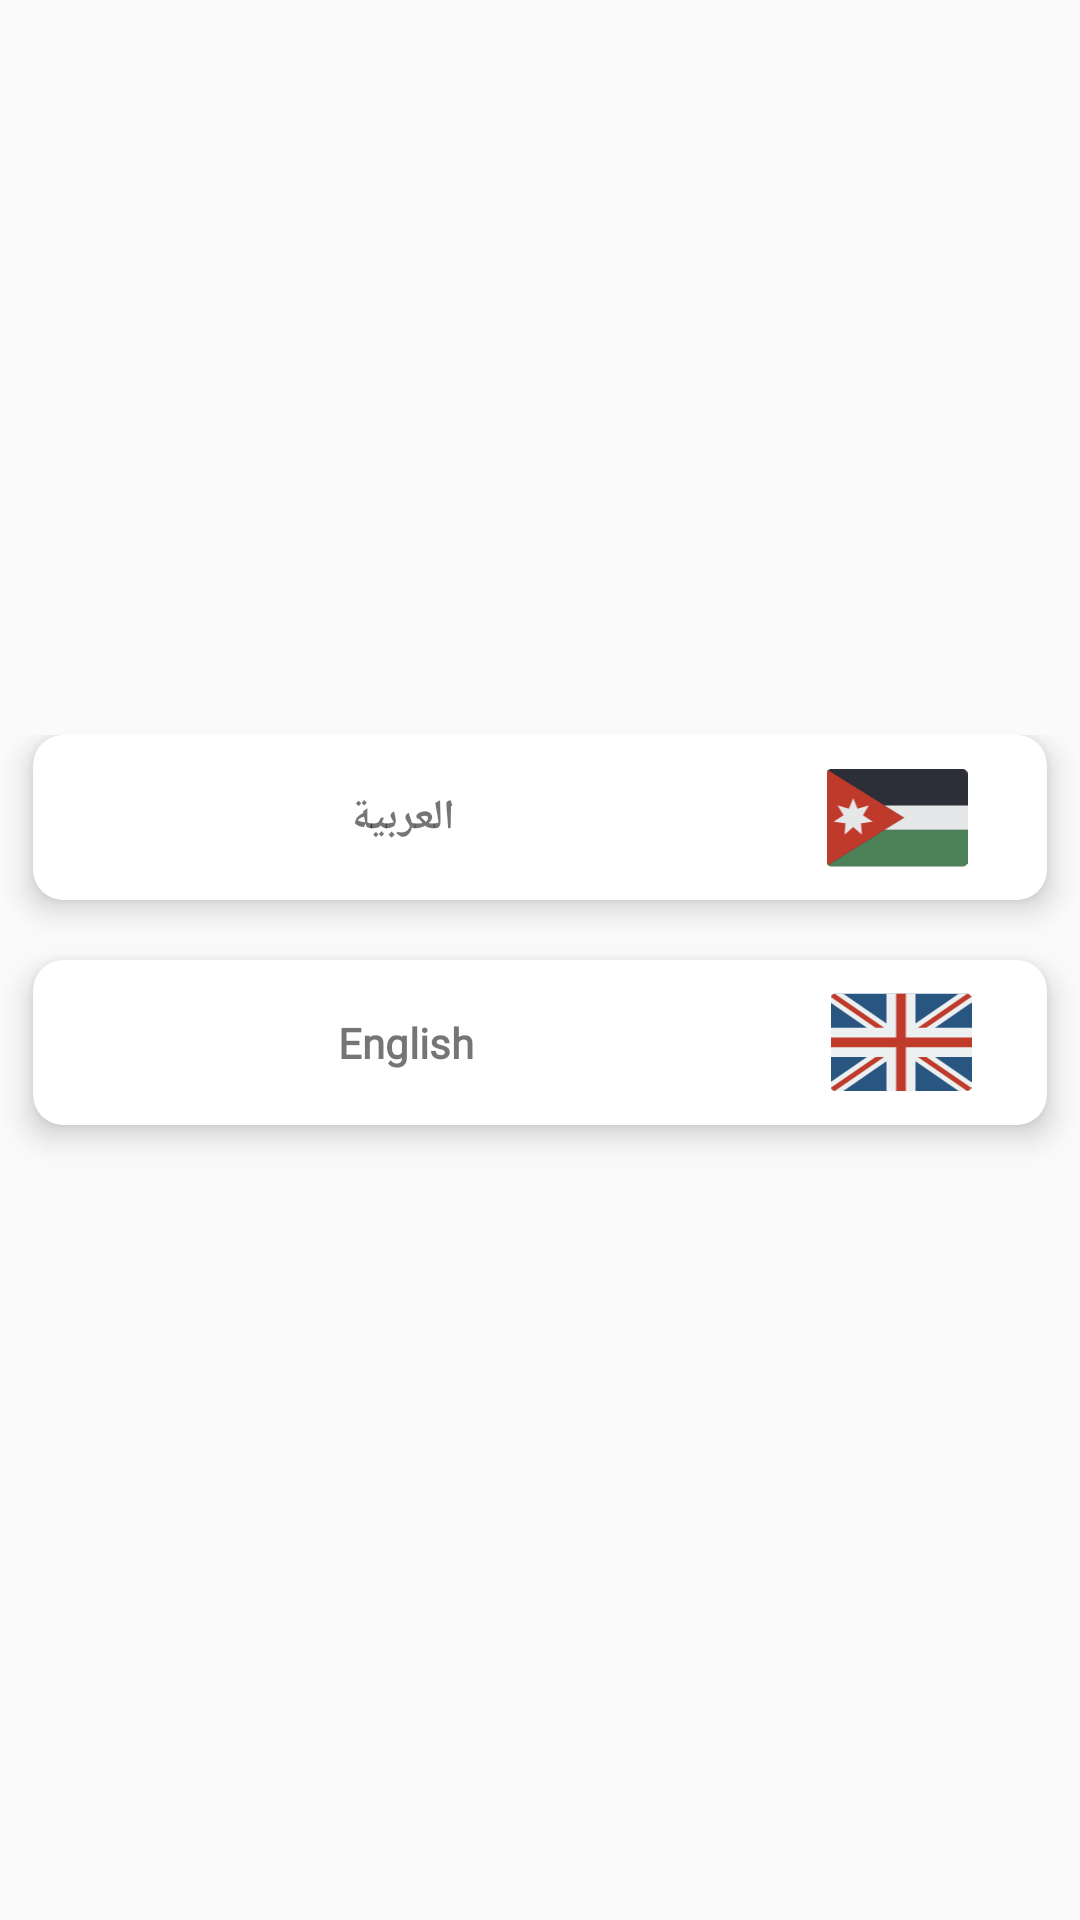

Where icons sit on this 1080 × 1920 app screen, as (x1, y1, x2, y2):
jordan: (827, 769, 968, 867)
